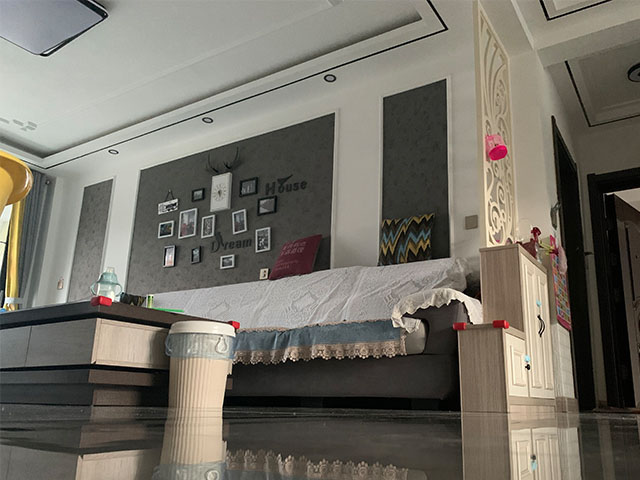cabinet: (452, 242, 558, 414)
sofa: (140, 256, 475, 400)
table: (1, 294, 241, 407)
trashcan: (166, 319, 237, 409)
